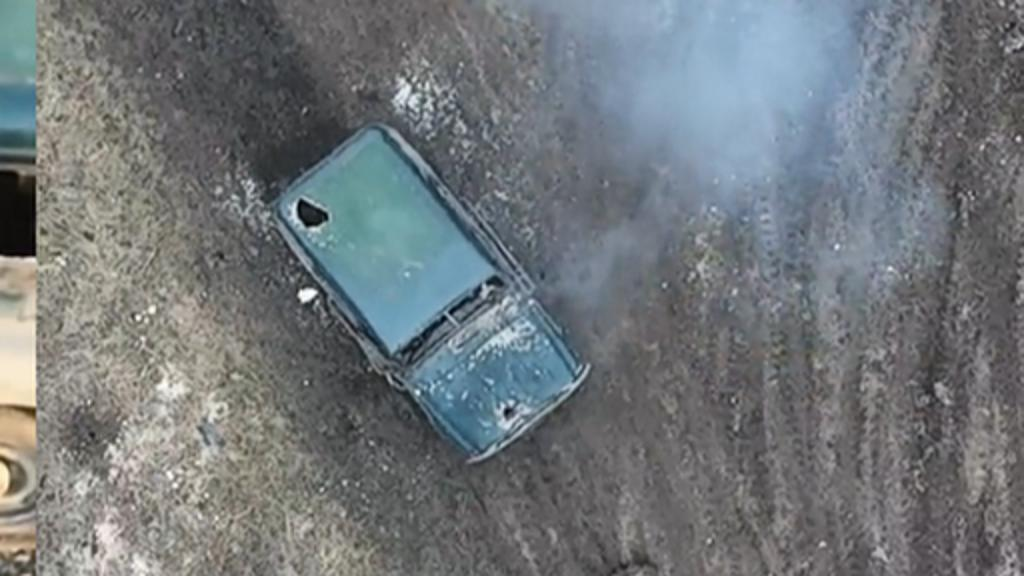CAR: (262, 114, 592, 472)
